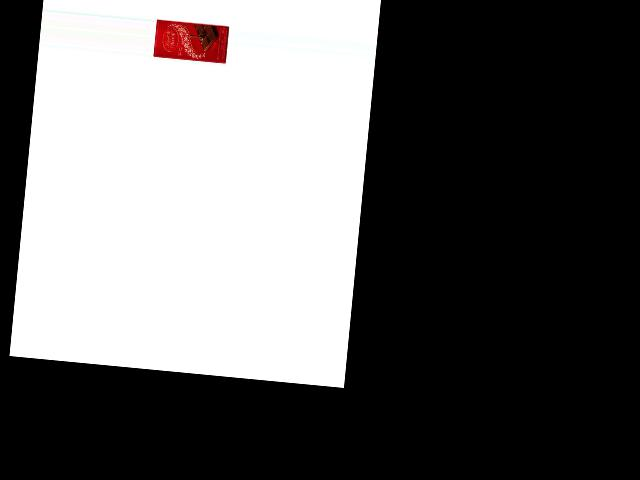chocolate: (153, 15, 228, 65)
